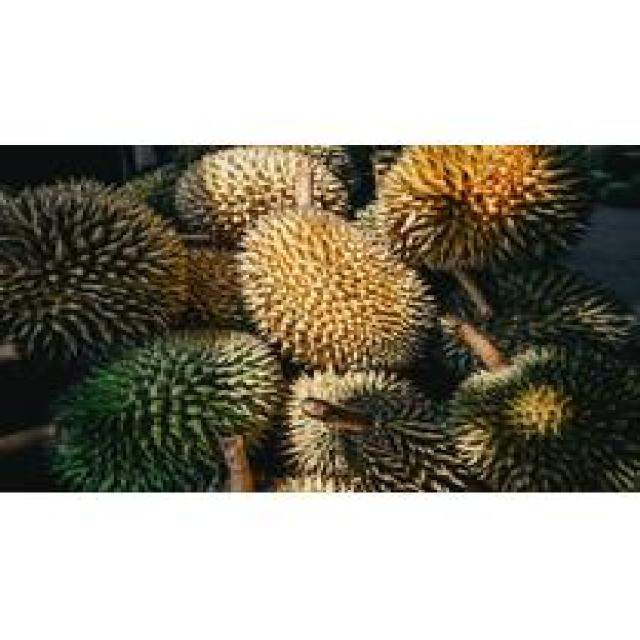fruit: (0, 153, 209, 415), (215, 183, 456, 395), (357, 142, 600, 292)
